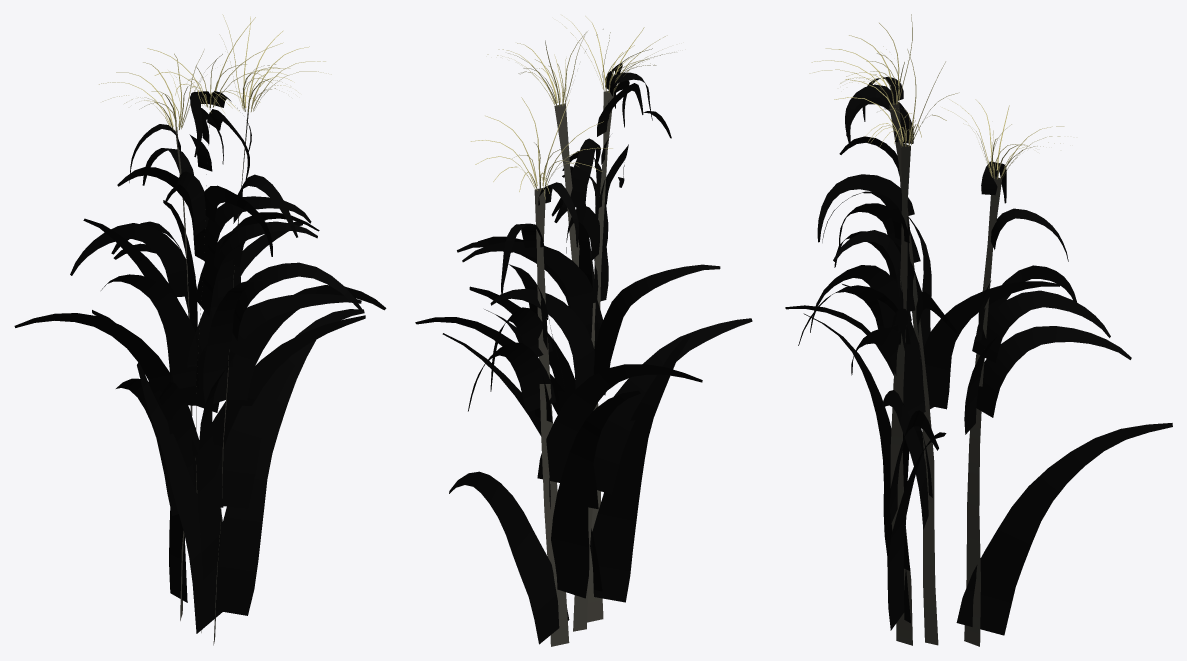
The model's file is SilkYellow.fbx.
The picture shows the model from 3 angles, left to right: view 1: azimuth 30°, elevation 25°; view 2: azimuth 150°, elevation 25°; view 3: azimuth 270°, elevation 25°; orthographic projection. The views are drawn at different scales.
Parts seen in each view (by area): view 1: cornSilkYellow2; view 2: cornSilkYellow2; view 3: cornSilkYellow2.
Part boxes in pixels (bbox=[...]): cornSilkYellow2: bbox=[14, 14, 386, 645]; cornSilkYellow2: bbox=[415, 15, 752, 646]; cornSilkYellow2: bbox=[785, 14, 1172, 646].
Size of the model in its own units: 1.55 by 2.99 by 1.74.
